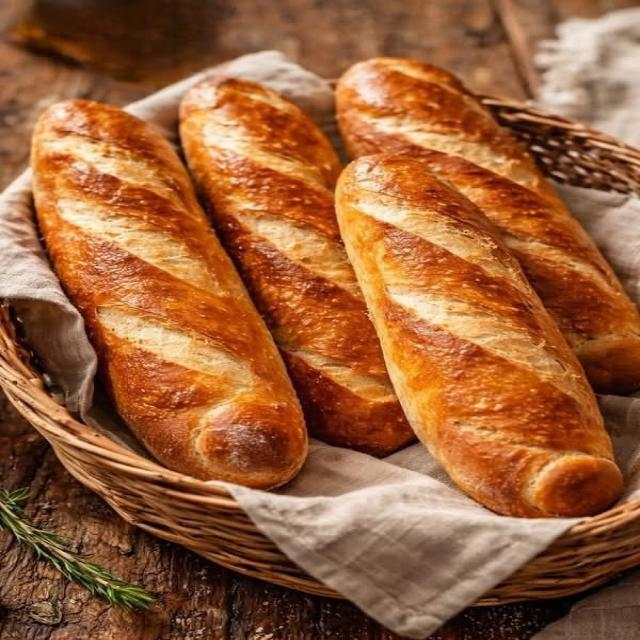bread: (32, 101, 307, 488), (336, 155, 621, 516), (338, 58, 639, 392), (181, 78, 413, 455)
